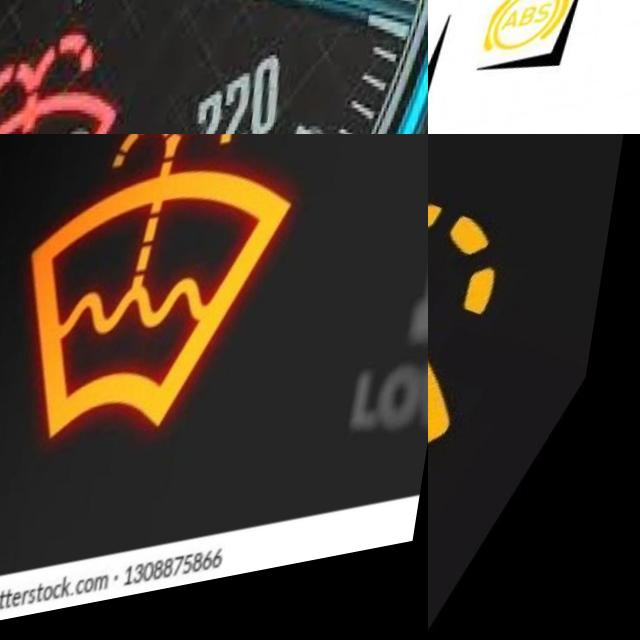Washer Fluid: (9, 134, 314, 463), (428, 134, 525, 585), (0, 35, 141, 134)
